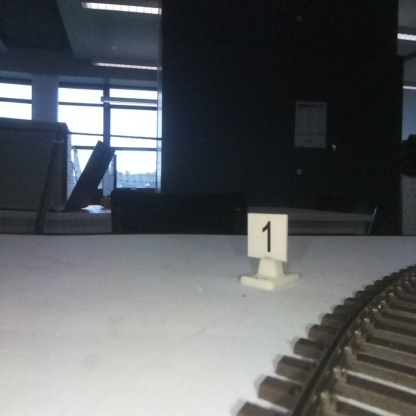white-stop-1: (248, 214, 287, 284)
